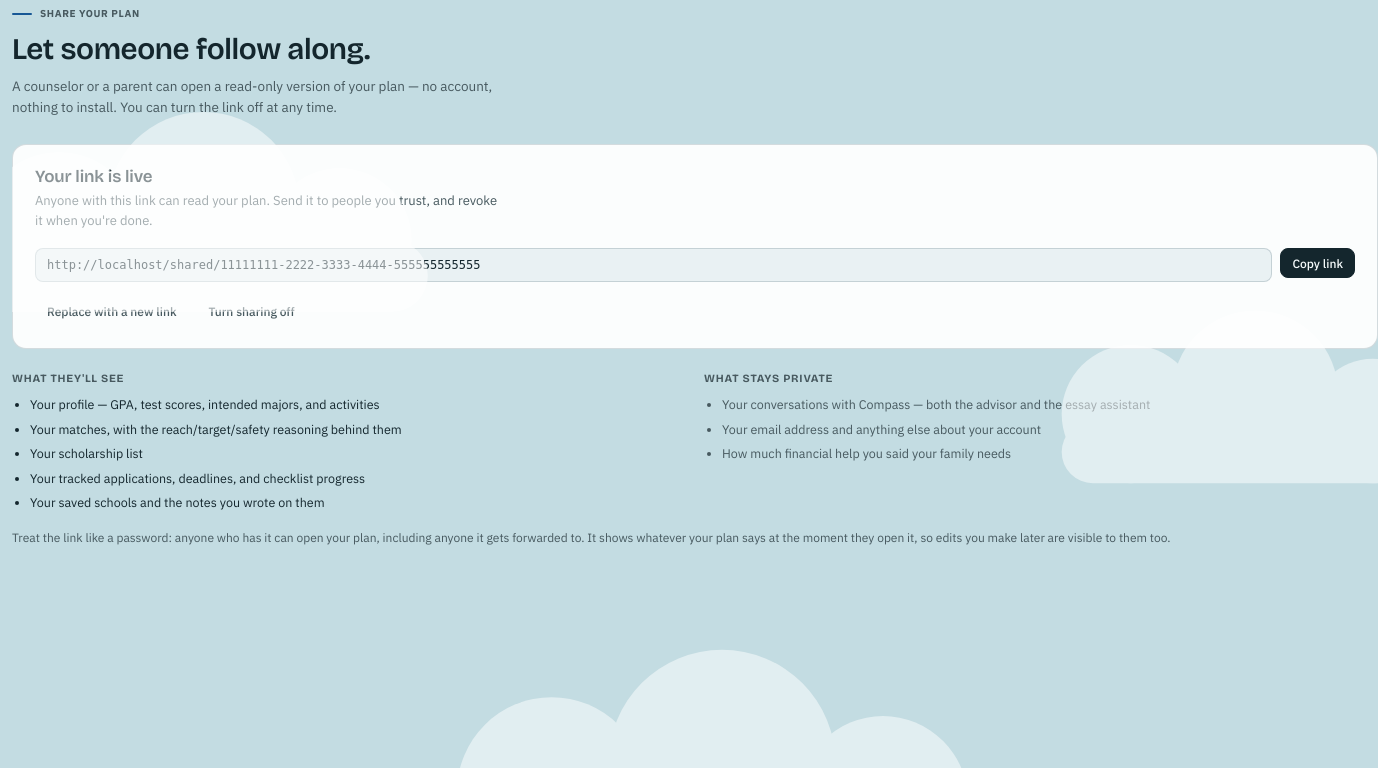
when a link exists › survives a browser that refuses clipboard access
The width and height of the screenshot is (1378, 768).
Click the button "Copy link" at (1318, 263), box [1280, 248, 1355, 278]
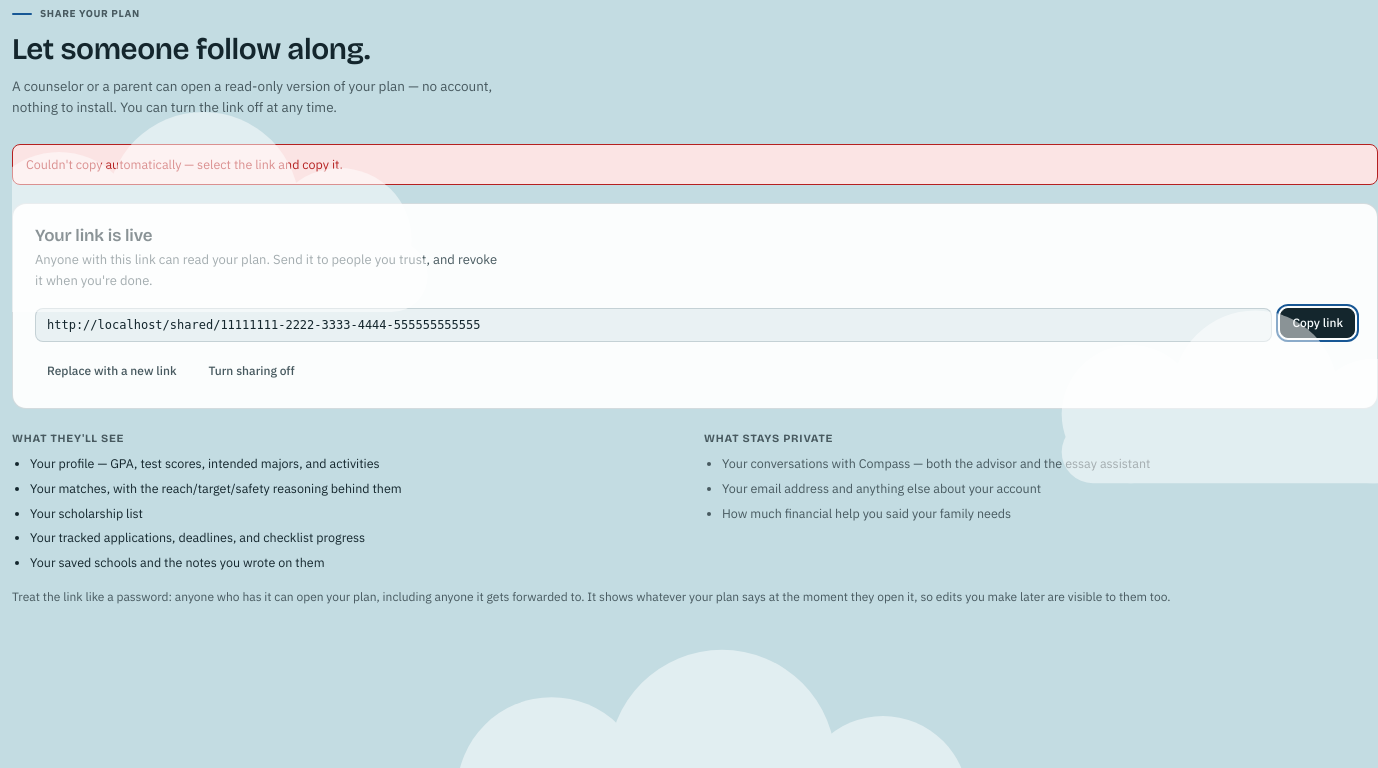
Expected: the field named "Your share link" is shown, [35, 308, 1272, 342]
Now the message shows "select the link", box [26, 156, 343, 172]
